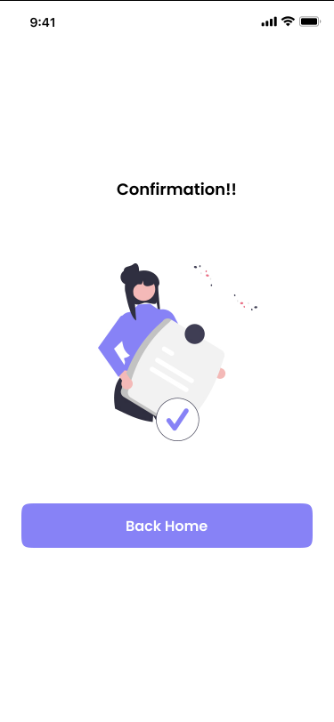Button: (19, 500, 314, 550)
